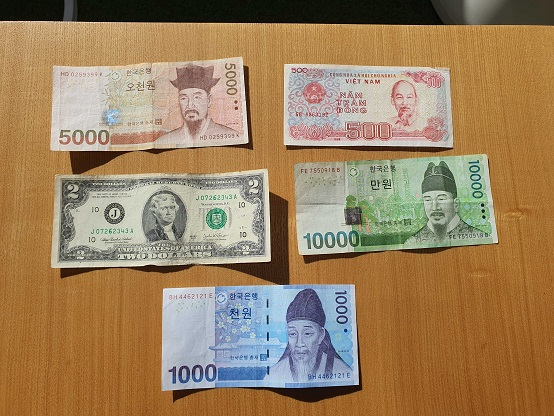10000won: (292, 153, 501, 257)
1000won: (162, 283, 360, 391)
2dollar: (49, 168, 272, 266)
5000won: (50, 58, 249, 152)
500vnd: (283, 63, 454, 148)
